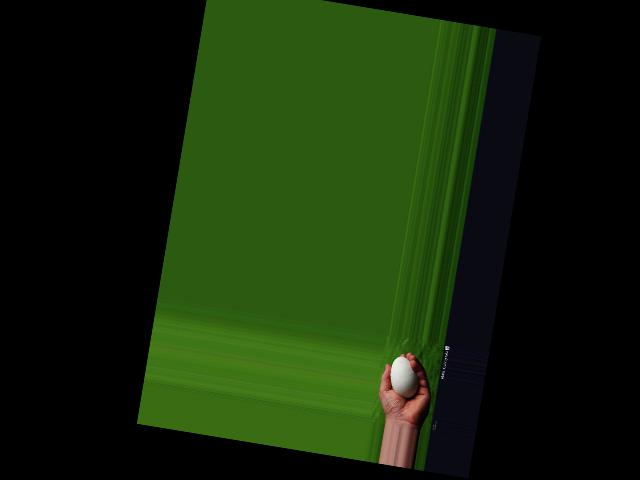egg: (386, 355, 423, 400)
